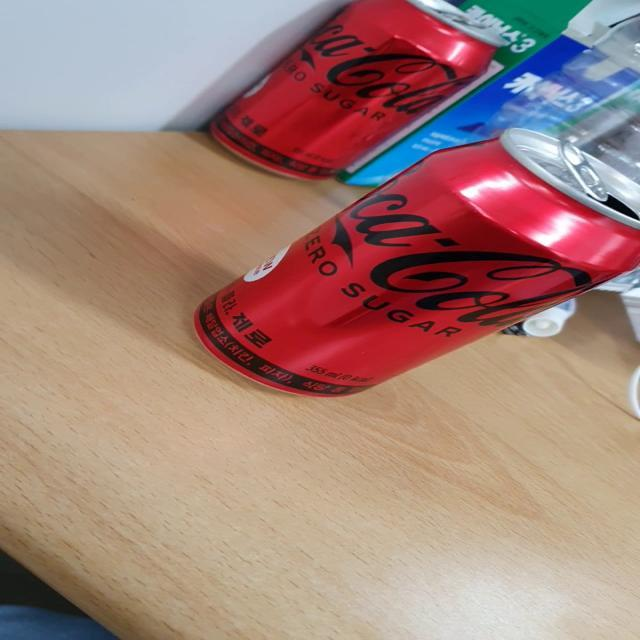coca-cola: (172, 125, 640, 408), (189, 1, 509, 188)
